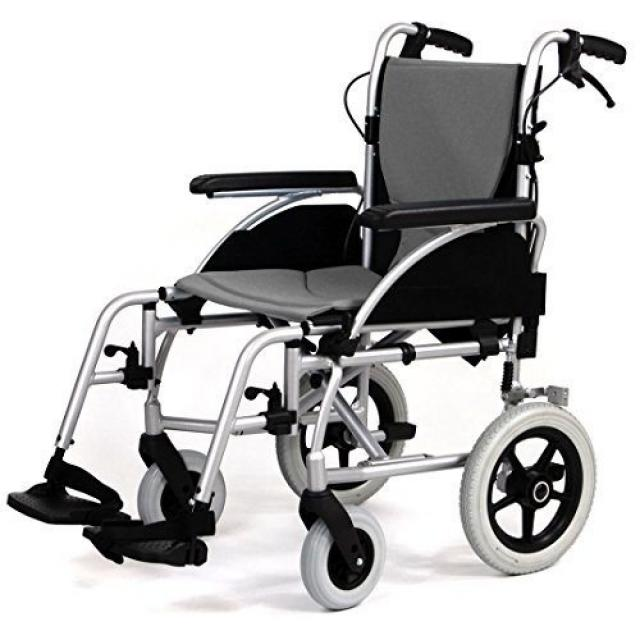wheelchair: (8, 6, 631, 614)
